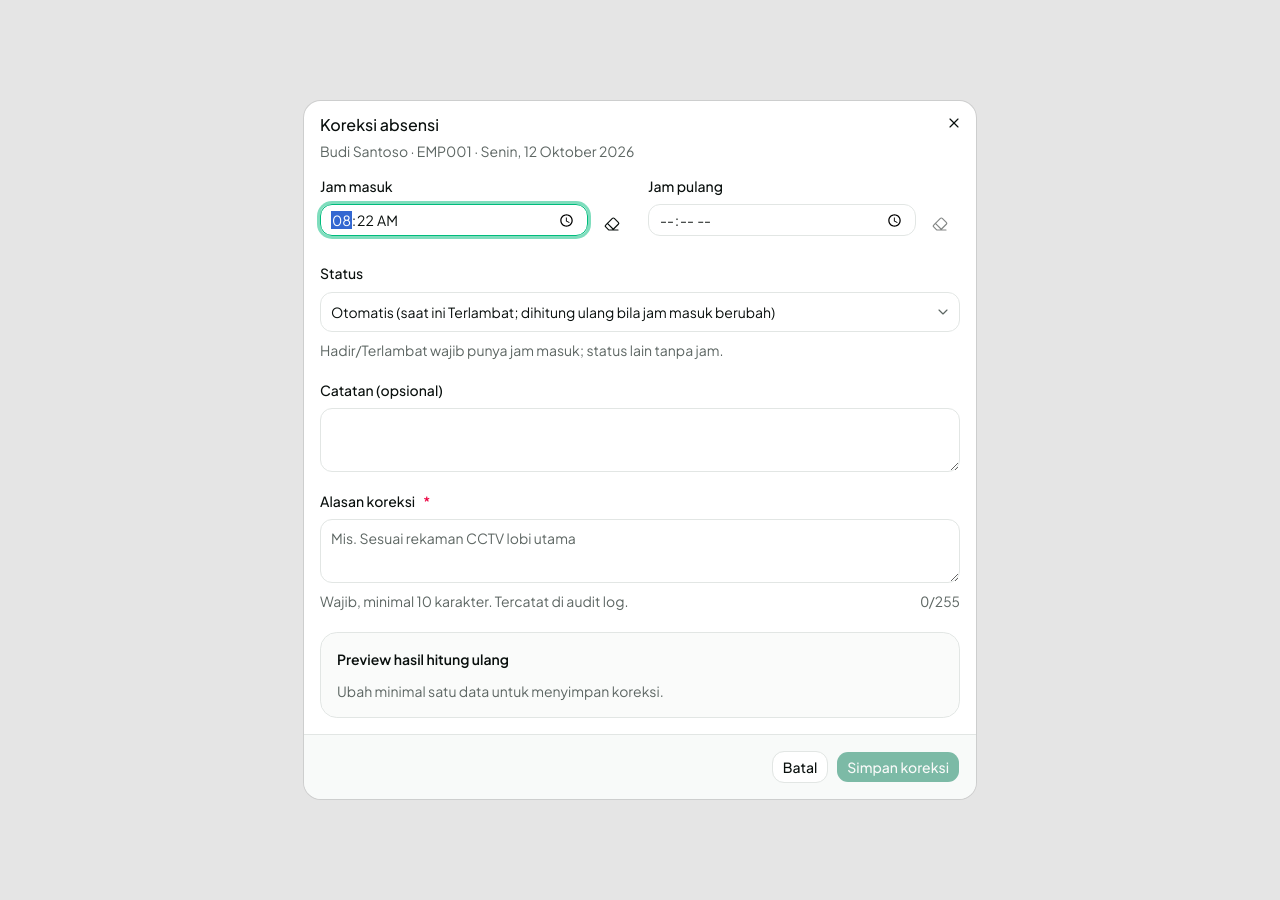
Test: CorrectionDialog › jam masuk diubah tanpa alasan → tidak tersimpan, pesan alasan wajib; preview PRESENT
Step 1. Replace the text in the time field labelled "Jam masuk" with "07:55" → coordinates (454, 220), box [320,204,588,236]
(page scrolled)
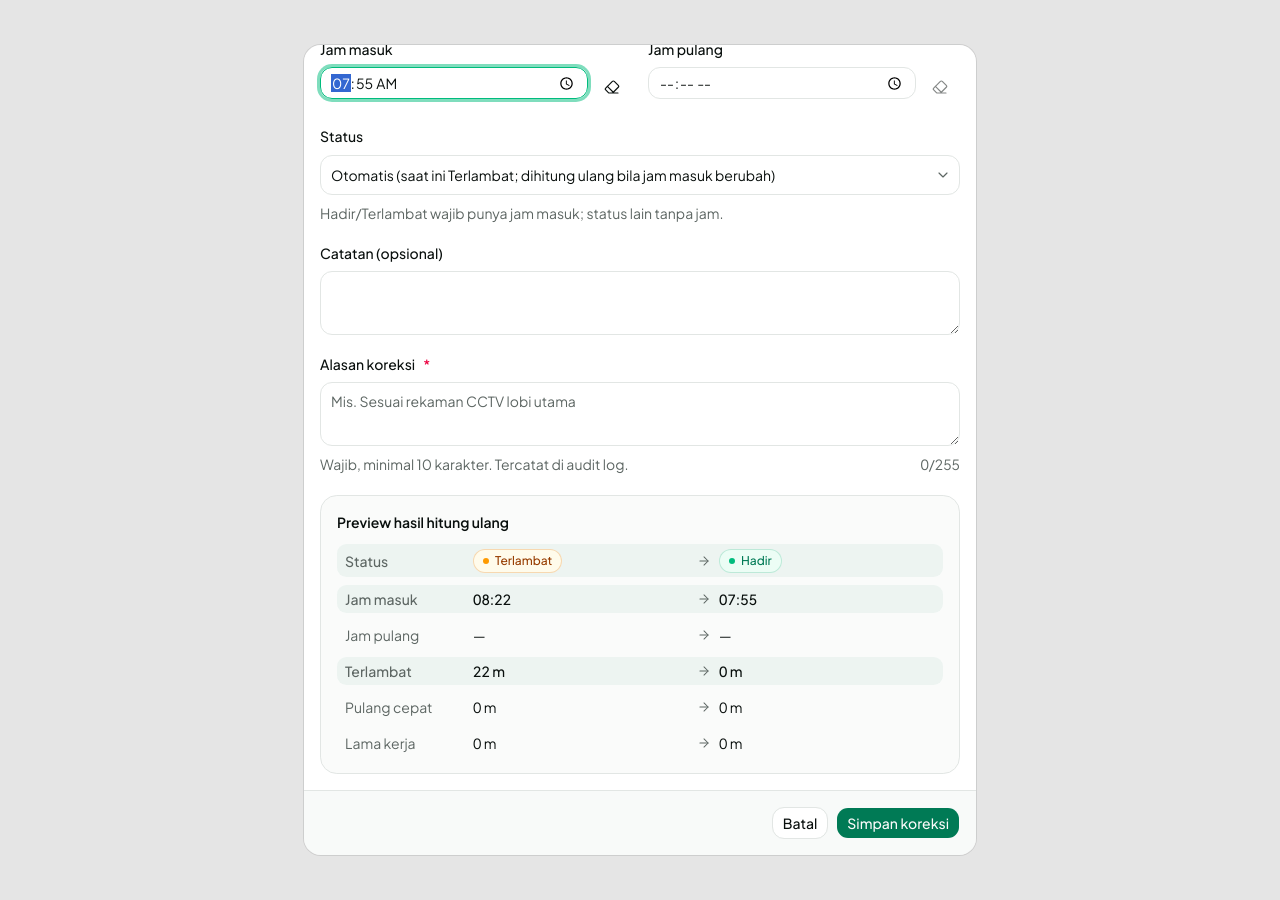
Expected: the element with test id "correction-preview" shows "Hadir", [741,553,772,568]
Expected: the element with test id "correction-preview" shows "07:55", [719,590,757,608]
Step 2. Click the button "Simpan koreksi" → coordinates (898, 823), box [836,807,960,839]
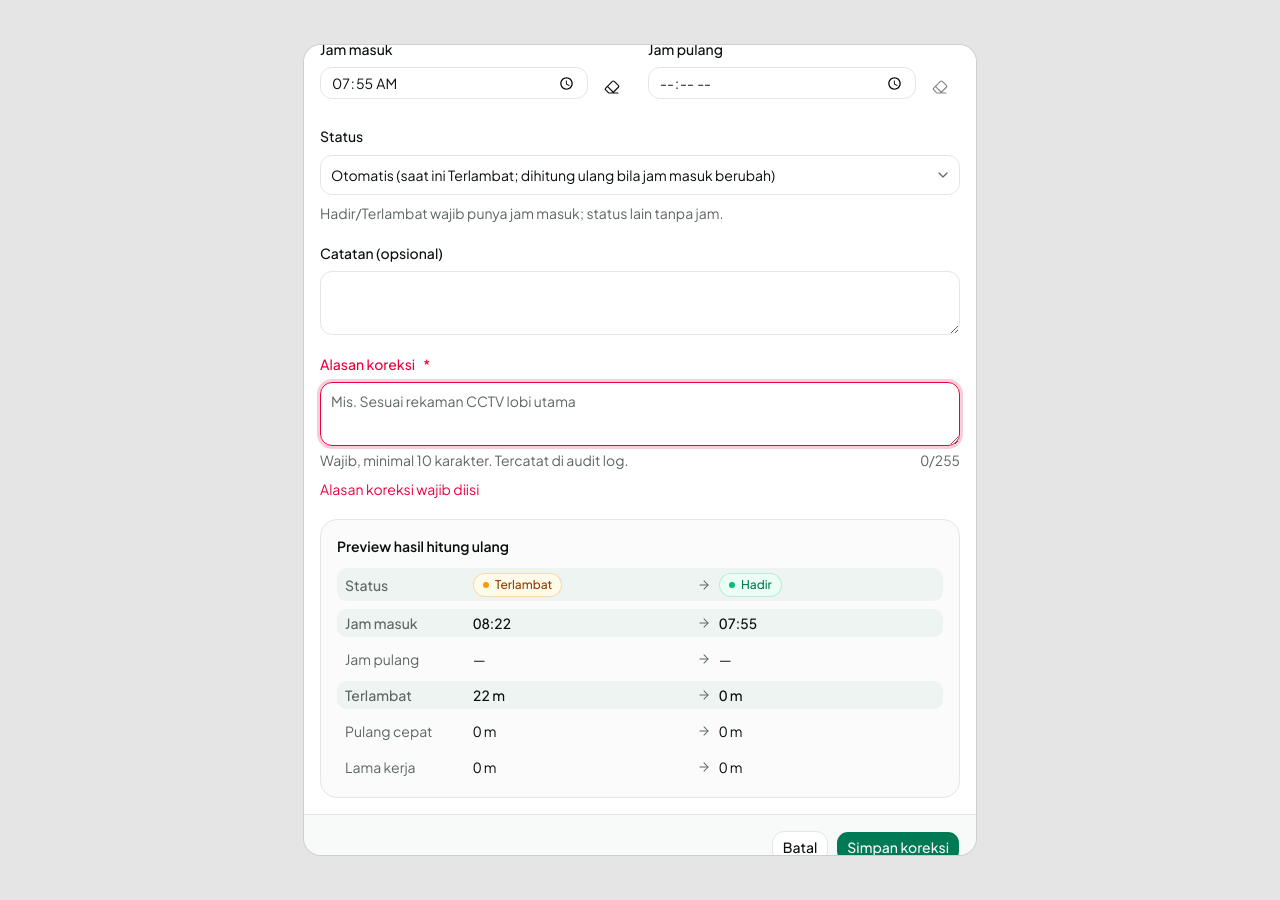
Expected: the text "Alasan koreksi wajib diisi" is shown, [320,480,479,498]
